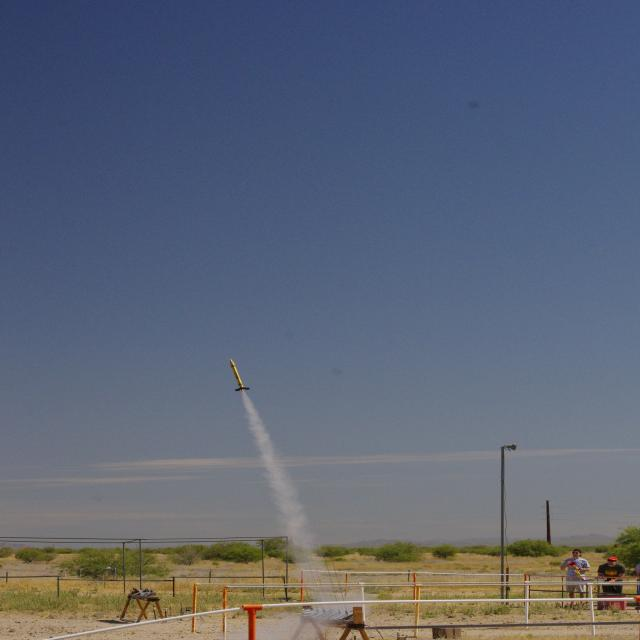Rocket: (229, 359, 250, 391)
